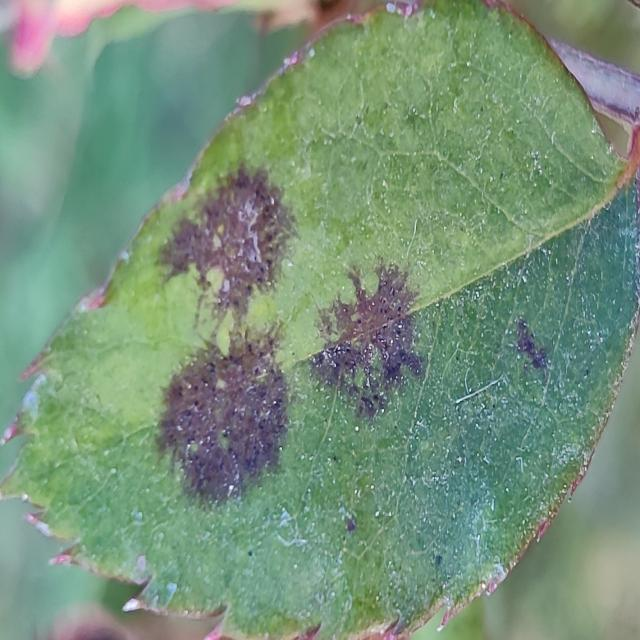Black_spot: (153, 334, 292, 504)
Rose: (1, 1, 638, 637)
